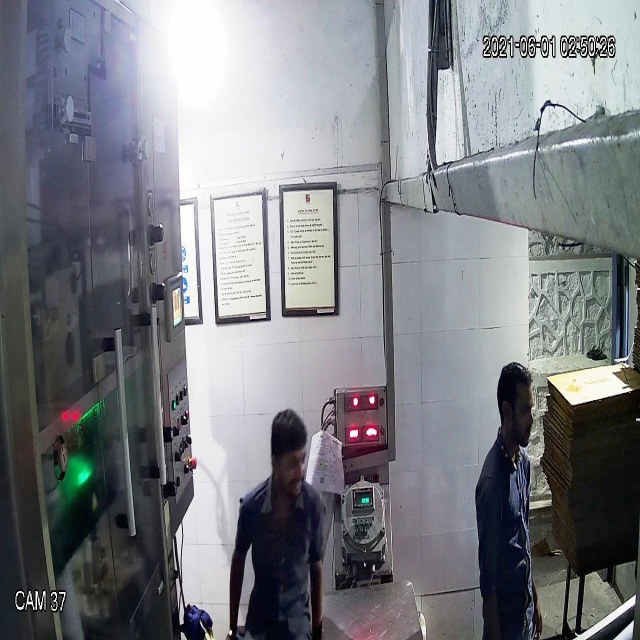Sin_gafas: (267, 441, 316, 480), (494, 388, 538, 427)
